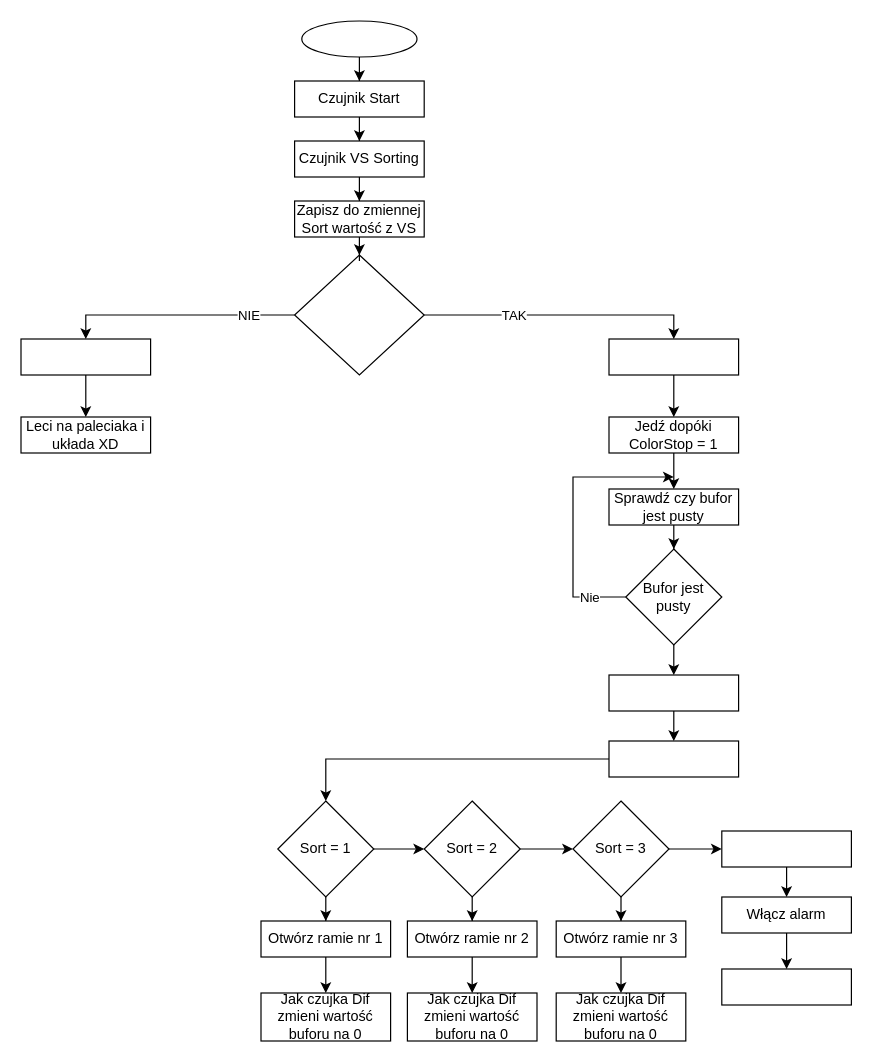
This 872x1063 diagram has some shape labels left out. Each missing label, with the centre of its shape:
"Czy Start i VS sort. = 1" goes at pixel 358 314.
"Otwórz ramie nr 4" goes at pixel 786 848.
"START" goes at pixel 359 38.
"Ustaw bufor na 1" goes at pixel 673 758.
"Wheel Sorter to Right = 1" goes at pixel 85 356.
"Wheel Sorter to Right= 0" goes at pixel 673 356.
"włącz mate" goes at pixel 673 692.
"Zastopuj linię produkcyjną" goes at pixel 786 986.
